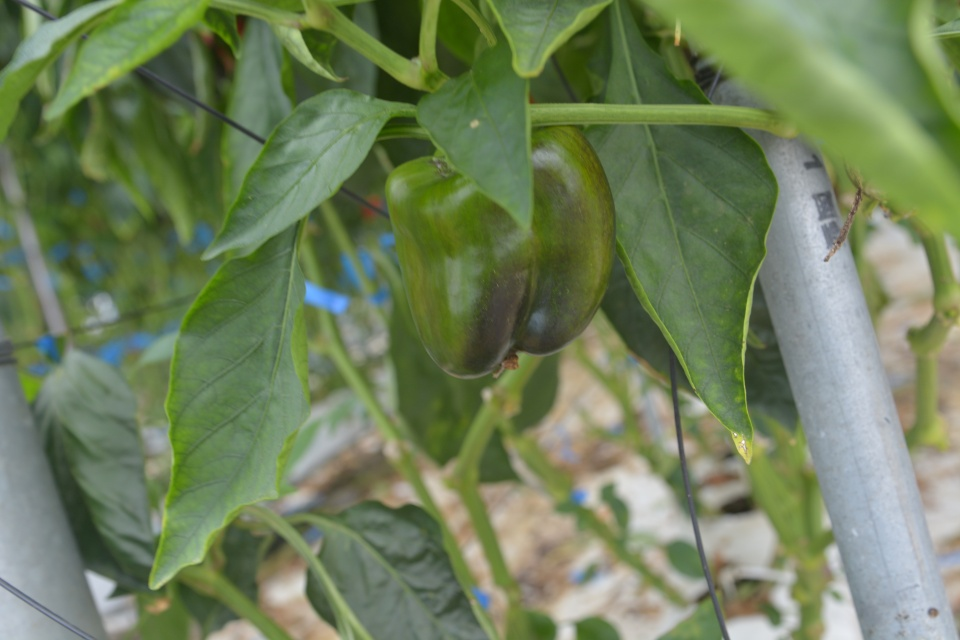fruit: (384, 120, 620, 381)
